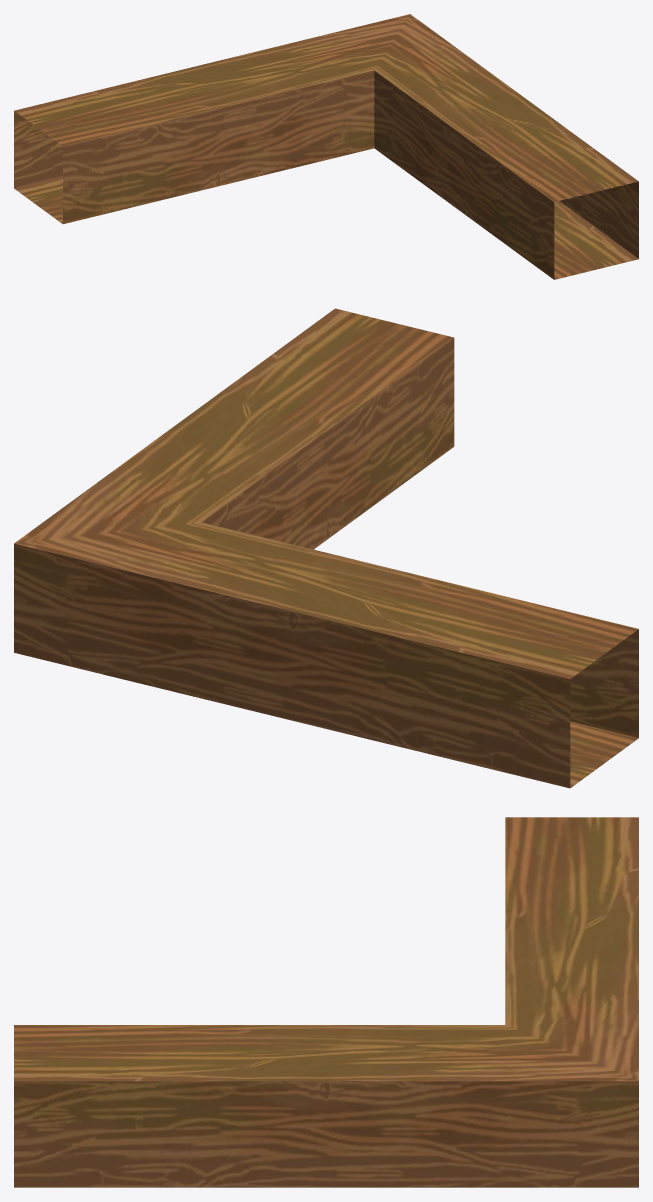
The model's file is HoleCover_90Half.glb.
3 renders of one model, top to bottom at view 1: azimuth 30°, elevation 25°; view 2: azimuth 150°, elevation 25°; view 3: azimuth 270°, elevation 25°, orthographic. The views are drawn at different scales.
Visible parts, largest first — view 1: HoleCover_90Half; view 2: HoleCover_90Half; view 3: HoleCover_90Half.
Boxes of the visible parts, x1,y1,x2,y2 form: HoleCover_90Half: [14, 14, 638, 279]; HoleCover_90Half: [14, 308, 638, 788]; HoleCover_90Half: [14, 817, 638, 1187].
Bounding box in the file's own units: 1.12 × 0.2101 × 1.12.
Materials: 1 (1 with a texture image).
